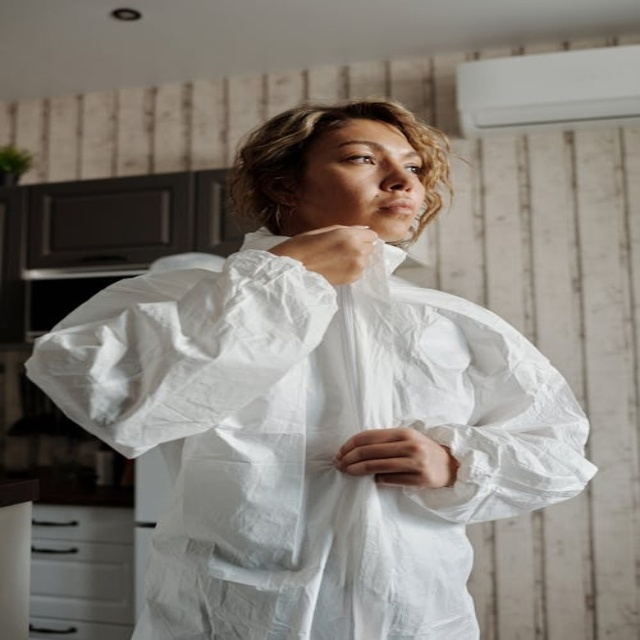Sin_gafas: (320, 132, 434, 174)
Sin_guantes: (334, 425, 459, 491), (265, 214, 381, 285)
Sin_mascara: (352, 191, 421, 226)
